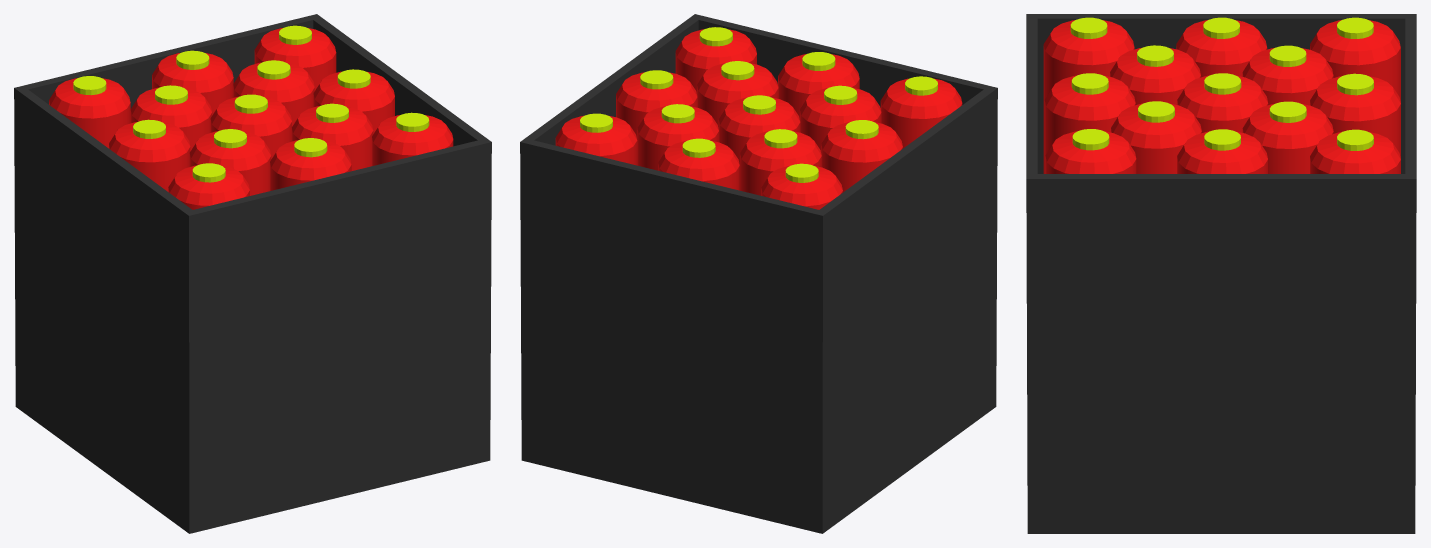
The model's file is Firework_Speaker.FBX.
3 views of the same model, side by side, from view 1: azimuth 30°, elevation 25°; view 2: azimuth 150°, elevation 25°; view 3: azimuth 270°, elevation 25° (orthographic). The views are drawn at different scales.
Parts seen in each view (by area): view 1: Box001, Cylinder018; view 2: Box001, Cylinder018; view 3: Box001, Cylinder018.
Part boxes in pixels (<box>): Box001: <box>14,14,491,533</box>; Cylinder018: <box>49,25,453,209</box>; Box001: <box>520,14,997,533</box>; Cylinder018: <box>555,27,962,209</box>; Box001: <box>1026,14,1416,533</box>; Cylinder018: <box>1043,17,1400,173</box>.
Size of the model in its own units: 40.76 by 42.7 by 40.76.
